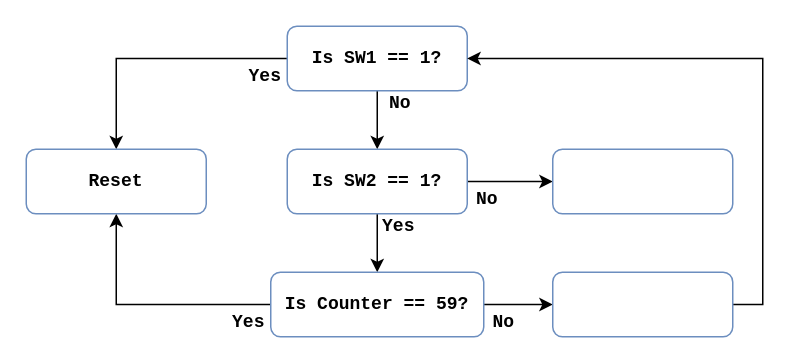
The diagram is 801 pixels wide and 363 high, and some of its shapes have lost their labels. The shapes that lost their labels are listed below. From the top down, each one's centre as x and y in pixels, then its label:
pixel 642 181: Pause
pixel 642 304: Add to Counter
